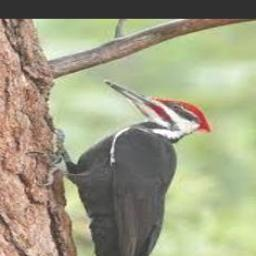Woodpecker: (34, 80, 212, 256)
